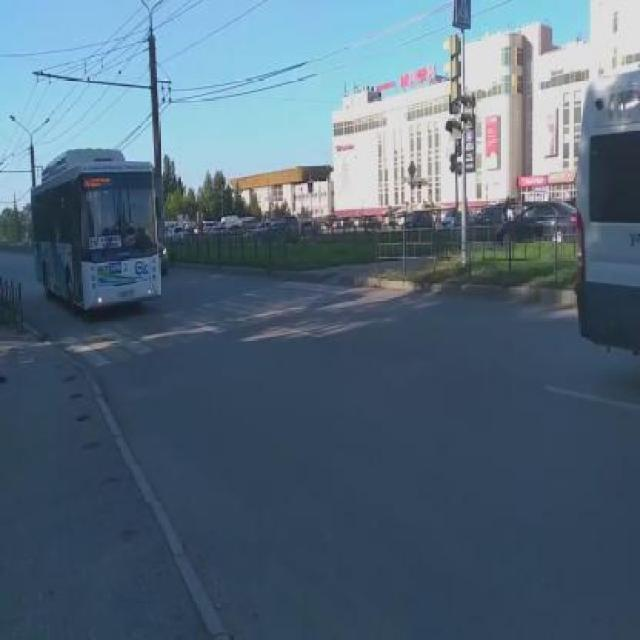bus: (32, 151, 163, 315)
